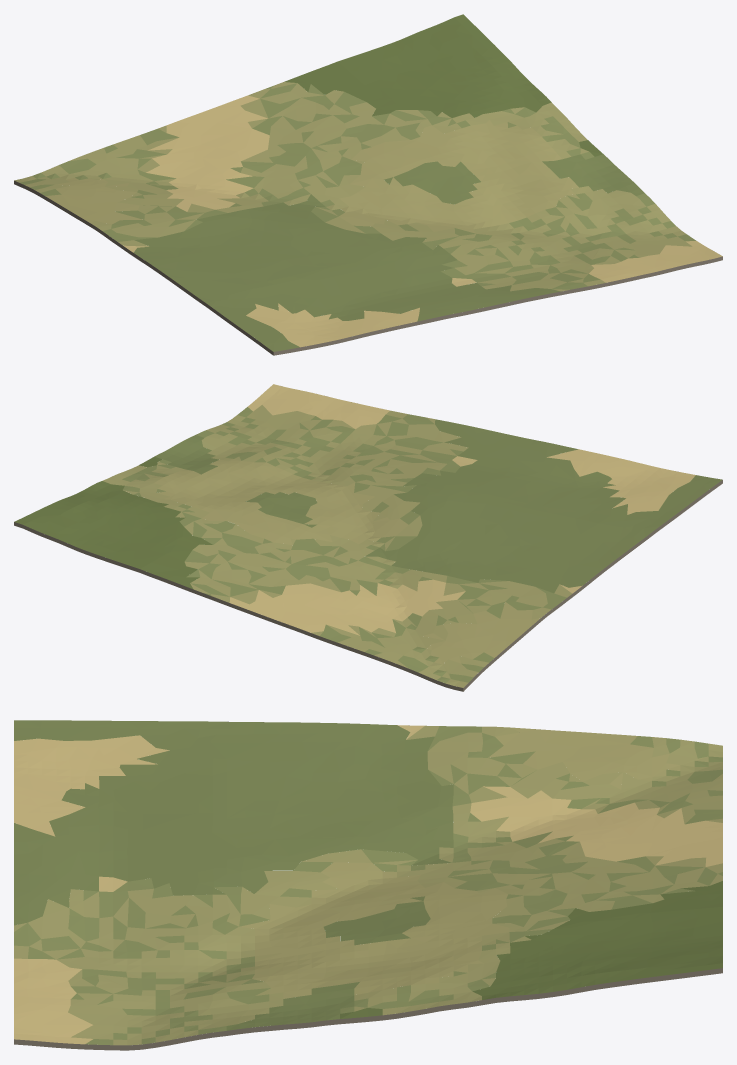
Rendered from parca_+4_-1-uzak.glb.
3 renders of one model, top to bottom at view 1: azimuth 30°, elevation 25°; view 2: azimuth 150°, elevation 25°; view 3: azimuth 270°, elevation 25°, orthographic. The views are drawn at different scales.
Parts seen in each view (by area): view 1: parca_+4_-1_arazi_uzak; view 2: parca_+4_-1_arazi_uzak; view 3: parca_+4_-1_arazi_uzak.
Part boxes in pixels (bbox=[...]): parca_+4_-1_arazi_uzak: bbox=[14, 14, 722, 355]; parca_+4_-1_arazi_uzak: bbox=[14, 384, 722, 691]; parca_+4_-1_arazi_uzak: bbox=[14, 720, 722, 1050].
Bounding box in the file's own units: 1000 × 129 × 1000.
